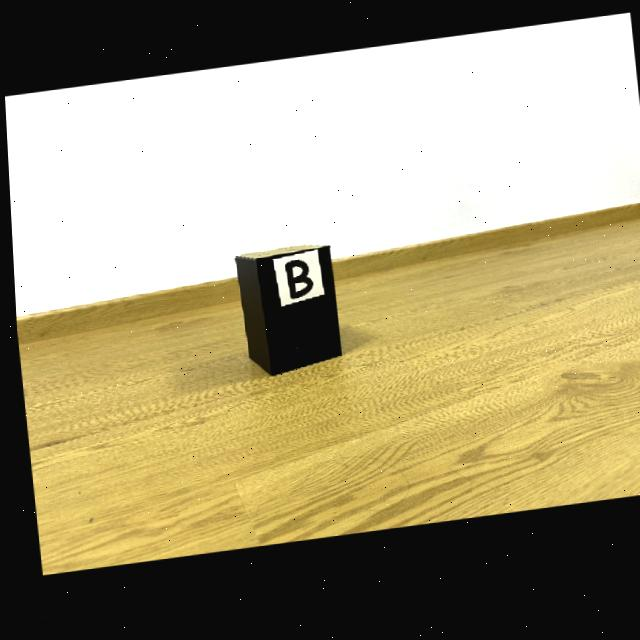B: (282, 265, 310, 305)
